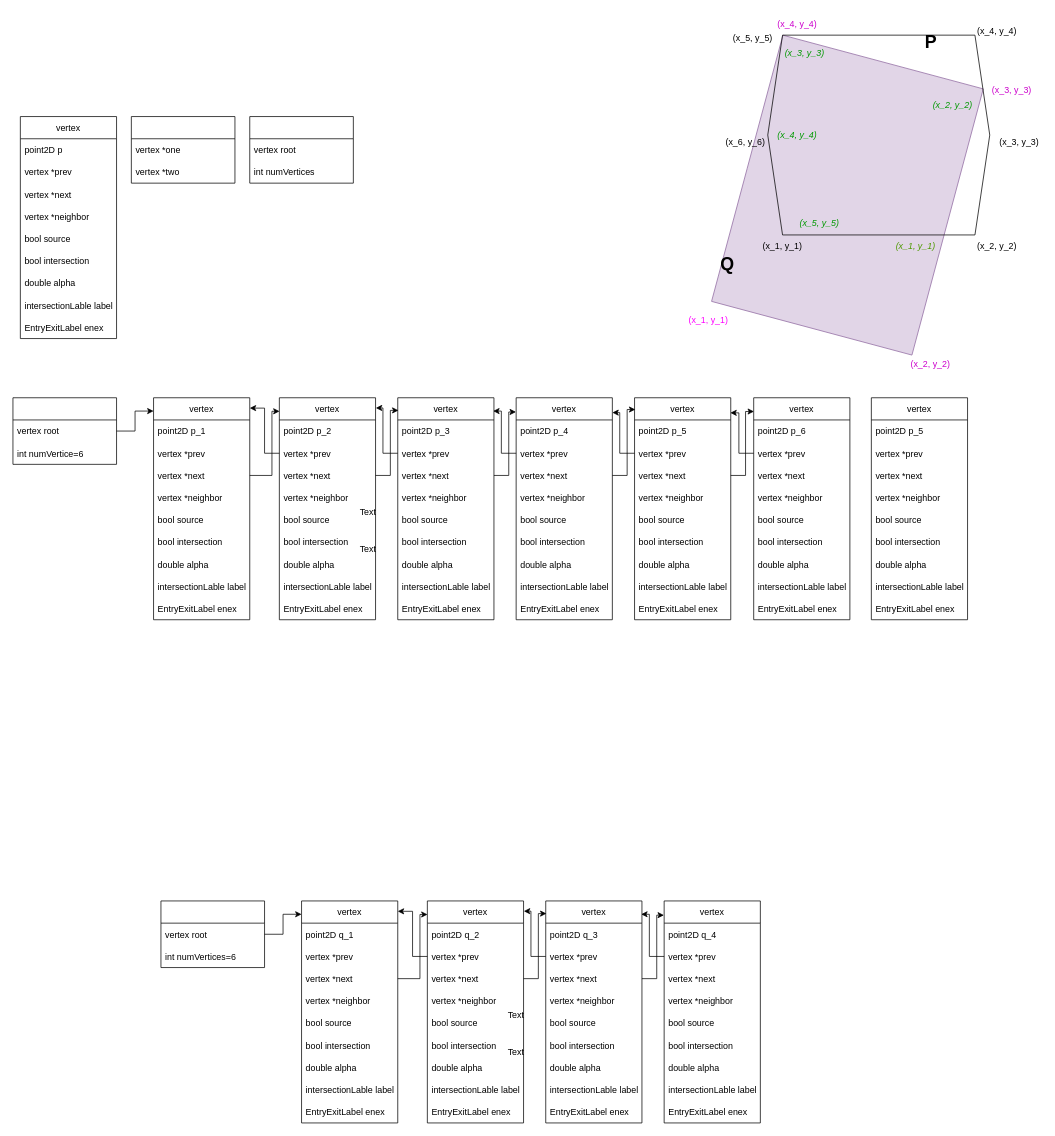
Image size: 1055x1136. Some labels were removed from this diagram. The box of each missing label's shape, as (x1, y1, x2, y2) in pixels:
edge: (131, 116, 235, 183)
Polygon: (249, 116, 353, 183)
Polygon P: (12, 397, 117, 464)
Polygon Q: (160, 900, 265, 968)
